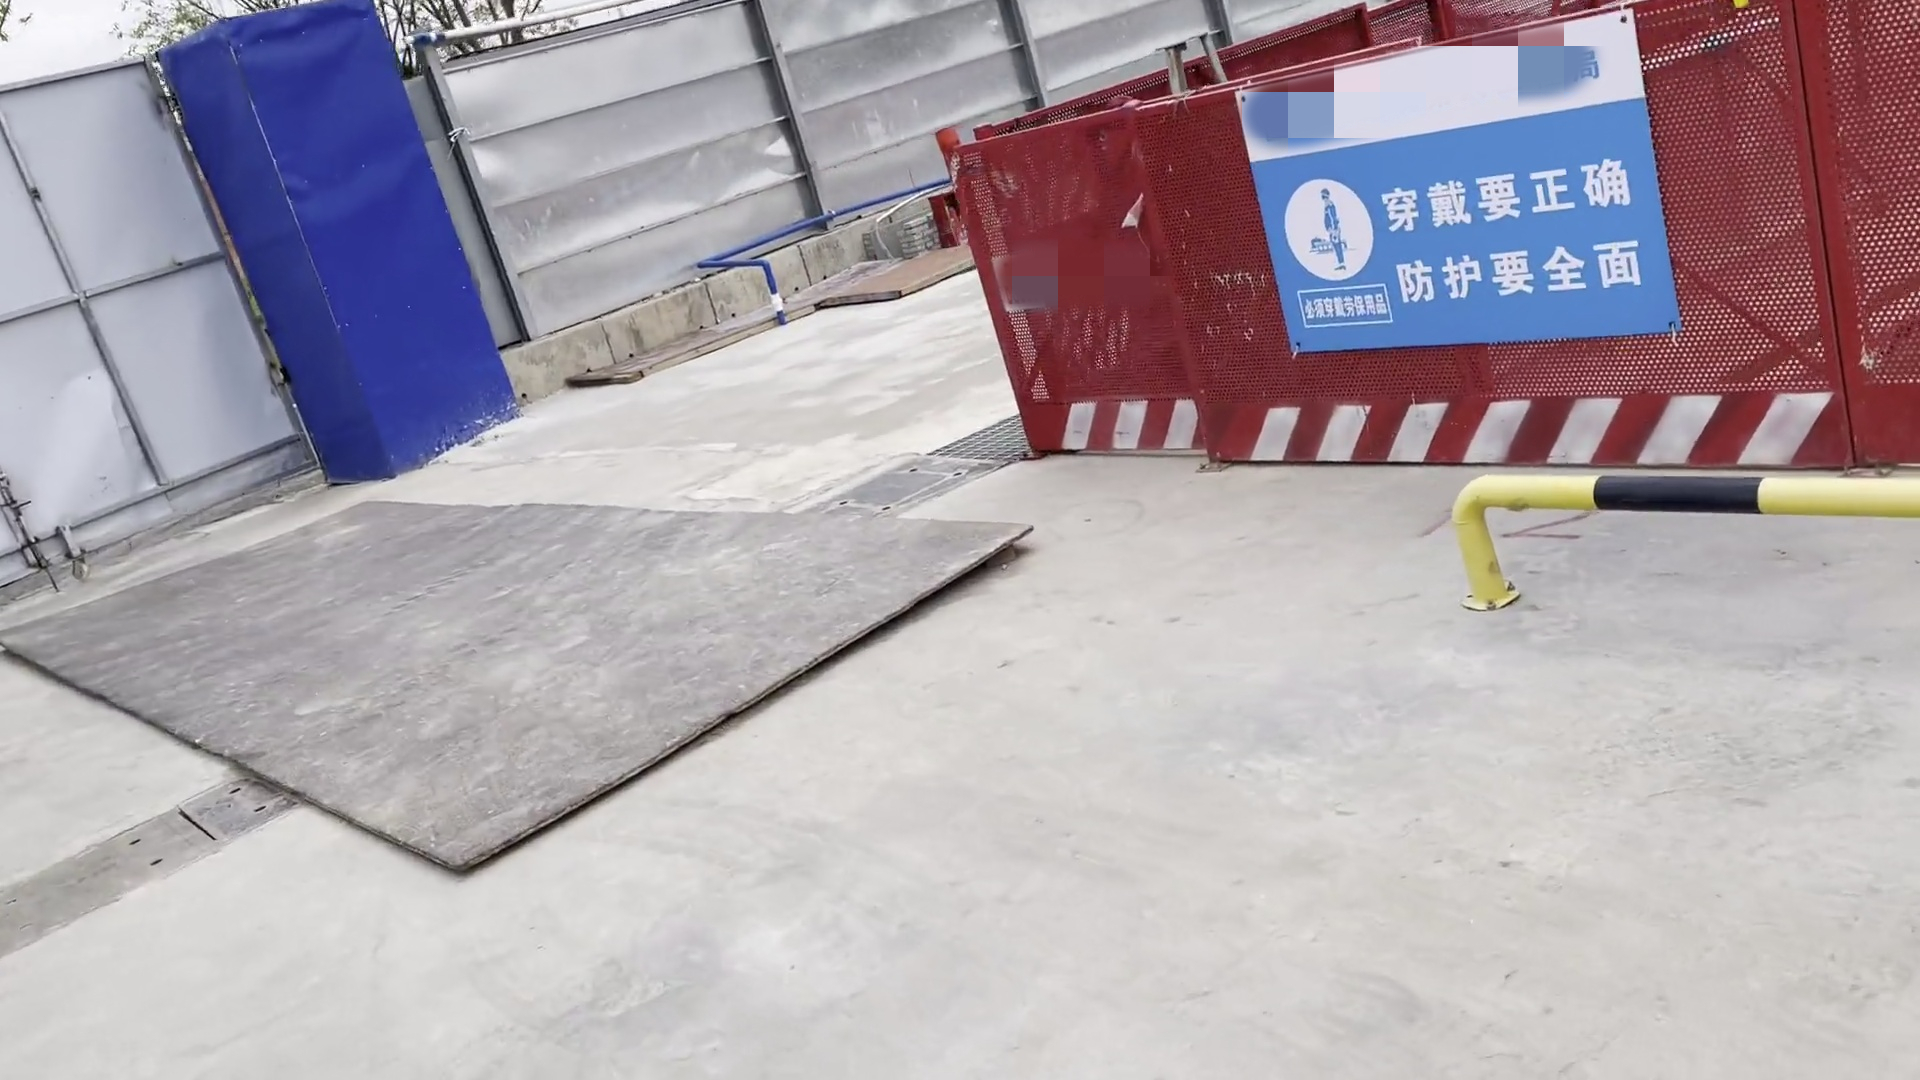brick: (853, 204, 945, 280)
fence: (934, 4, 1920, 480)
slogan: (1211, 7, 1698, 405)
